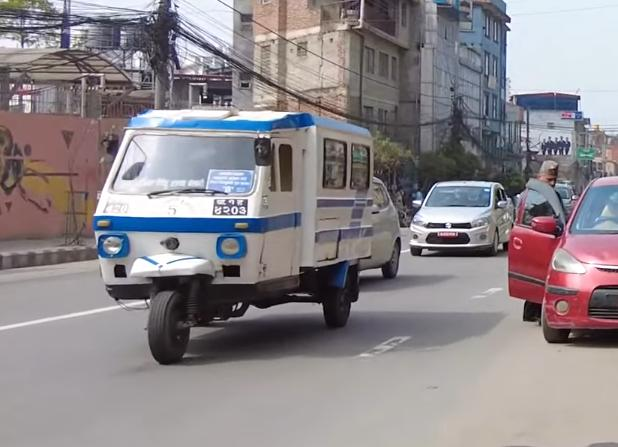car: (510, 173, 618, 353), (410, 179, 513, 259)
tempo: (88, 105, 377, 368)
